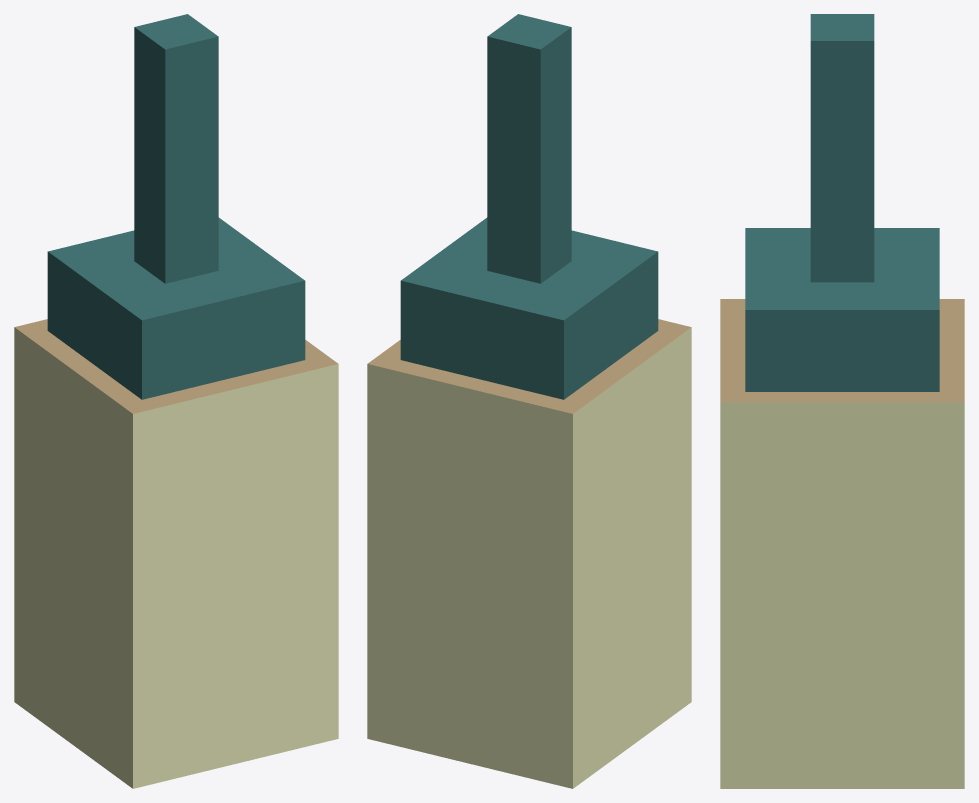
The model's file is PilarTorre03.fbx.
The picture shows the model from 3 angles, left to right: view 1: azimuth 30°, elevation 25°; view 2: azimuth 150°, elevation 25°; view 3: azimuth 270°, elevation 25°; orthographic projection. The views are drawn at different scales.
Parts seen in each view (by area): view 1: Cube.117; view 2: Cube.117; view 3: Cube.117.
Boxes of the visible parts, box(x1,y1,x2,y2) form: Cube.117: box(14, 14, 338, 788); Cube.117: box(367, 14, 691, 788); Cube.117: box(720, 14, 964, 788).
Size of the model in its own units: 200 by 640 by 200.
